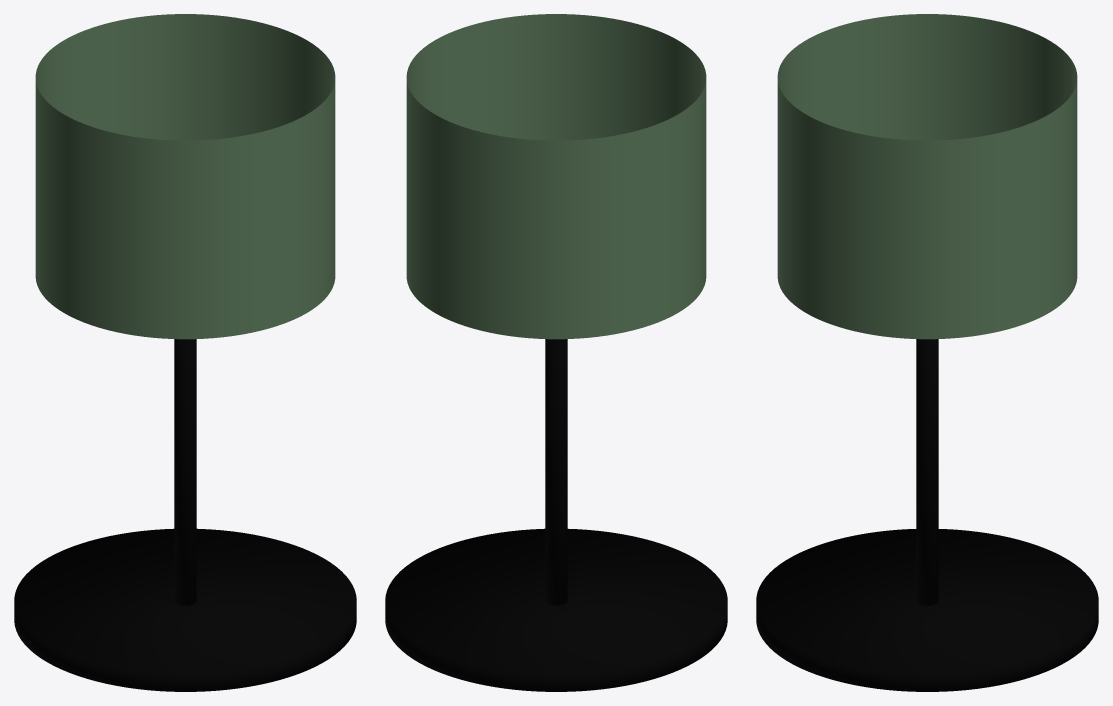
File: lamp.glb
The picture shows the model from 3 angles, left to right: view 1: azimuth 30°, elevation 25°; view 2: azimuth 150°, elevation 25°; view 3: azimuth 270°, elevation 25°; orthographic projection.
Parts seen in each view (by area): view 1: Цилиндр.004; view 2: Цилиндр.004; view 3: Цилиндр.004.
Boxes of the visible parts, x1,y1,x2,y2 form: Цилиндр.004: (14,14,356,691); Цилиндр.004: (385,14,727,691); Цилиндр.004: (756,14,1098,691).
Bounding box in the file's own units: 2 × 3.49 × 2.
